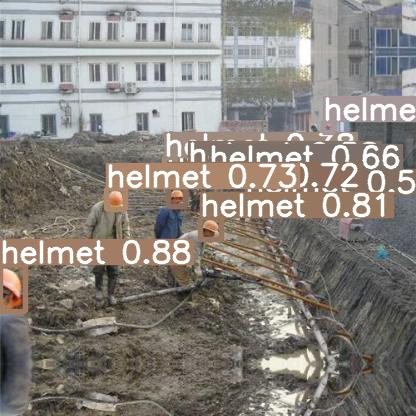helmet: (0, 264, 25, 311), (200, 217, 221, 239), (106, 188, 125, 209), (168, 187, 185, 206), (245, 194, 259, 208), (209, 169, 222, 183), (188, 166, 200, 179), (166, 165, 177, 176), (164, 157, 175, 168), (323, 121, 333, 132)
